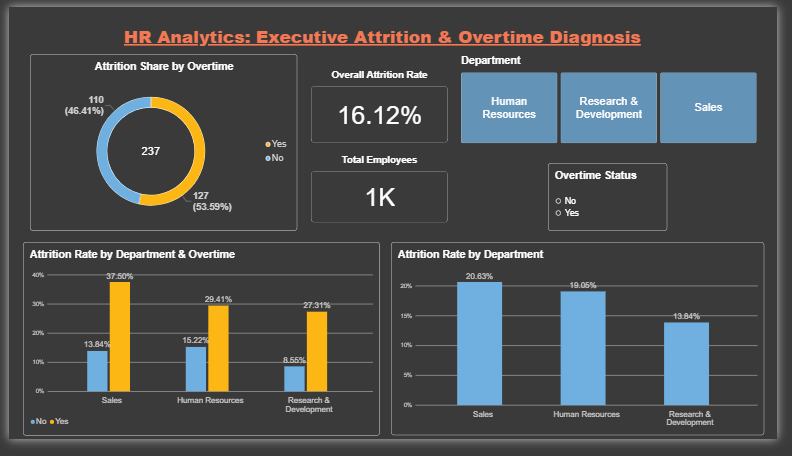

Layout of this report page (visuals, bound fields, positions):
{"tool":"powerbi","page":{"name":"Page 1","canvas":[1920,1080],"ordinal":0},"visuals":[{"type":"columnChart","title":"Attrition Rate by Department","fields":{"Category":["mv_kpi_department_attrition.department"],"Y":["_Measures.Attrition Rate %"]},"box":[955,587.5,932.5,482.5],"z":0},{"type":"clusteredColumnChart","title":"Attrition Rate by Department & Overtime","fields":{"Category":["Requête3.department"],"Series":["Requête3.over_time"],"Y":["_Measures (2).Attrition Rate Overtime %"]},"box":[34.2,586.8,892.1,484.2],"z":1000},{"type":"cardVisual","title":"Overall Attrition Rate","fields":{"Data":["_Measures.Attrition Rate %"]},"box":[755.3,155.3,342.1,184.2],"z":2000},{"type":"textbox","box":[286.8,42.1,1344.7,76.3],"z":3000},{"type":"cardVisual","title":"Total Employees","fields":{"Data":["Sum(mv_kpi_department_attrition.total_employees)"]},"box":[755.3,368.4,342.1,171.1],"z":4000},{"type":"advancedSlicerVisual","title":"Department","fields":{"Values":["mv_kpi_department_attrition.department"]},"box":[1128.9,118.4,739.5,223.7],"z":5000},{"type":"listSlicer","title":"Overtime Status","fields":{"Values":["mv_kpi_job_overtime_attrition.over_time"]},"box":[1347.5,390,297.5,170],"z":6000},{"type":"donutChart","title":"Attrition Share by Overtime","fields":{"Category":["mv_kpi_job_overtime_attrition.over_time"],"Y":["Sum(mv_kpi_job_overtime_attrition.total_attrition)"]},"box":[52.6,118.4,668.4,442.1],"z":8000}]}

Visuals, with their boxes in screenshot pixels (x1, y1, x2, y2), scaled from the page's 1920x1080 canvas onto the 792x456 screenshot:
"Attrition Rate by Department" columnChart: region(394, 248, 779, 452)
"Attrition Rate by Department & Overtime" clusteredColumnChart: region(14, 248, 382, 452)
"Overall Attrition Rate" cardVisual: region(312, 66, 453, 143)
textbox: region(118, 18, 673, 50)
"Total Employees" cardVisual: region(312, 156, 453, 228)
"Department" advancedSlicerVisual: region(466, 50, 771, 144)
"Overtime Status" listSlicer: region(556, 165, 679, 236)
"Attrition Share by Overtime" donutChart: region(22, 50, 297, 237)
